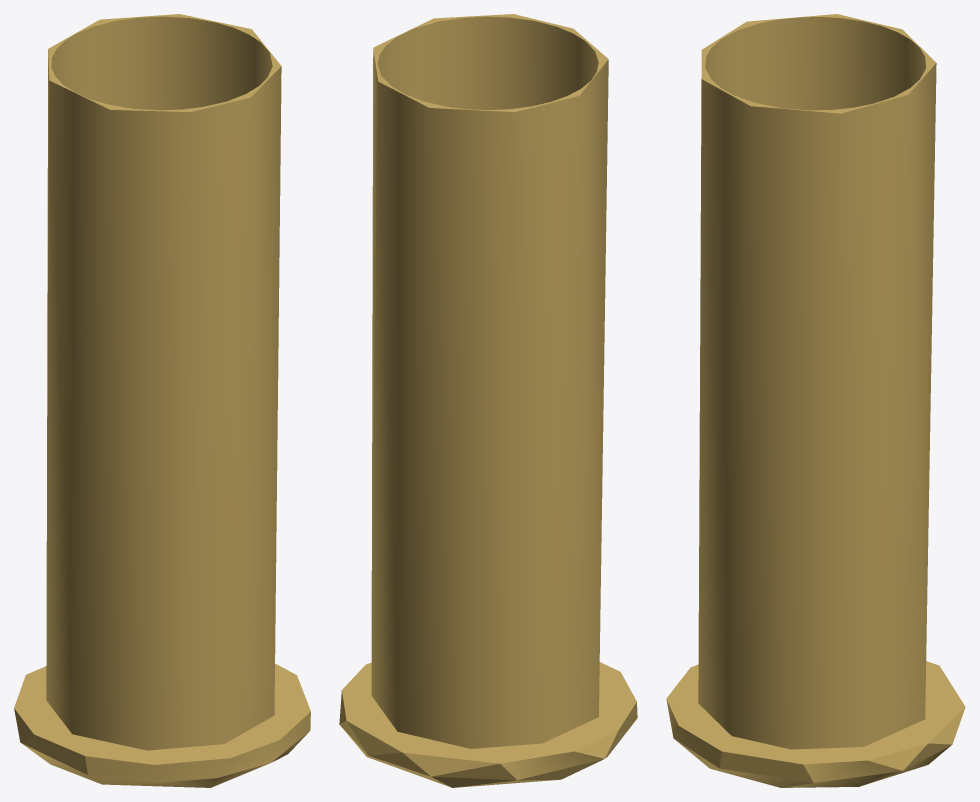
File: SM_Webley_Shell.fbx
The picture shows the model from 3 angles, left to right: view 1: azimuth 30°, elevation 25°; view 2: azimuth 150°, elevation 25°; view 3: azimuth 270°, elevation 25°; orthographic projection.
Parts seen in each view (by area): view 1: Bullet; view 2: Bullet; view 3: Bullet.
Part boxes in pixels (x1,y1,x2,y2): Bullet: (14, 14, 310, 787); Bullet: (339, 14, 637, 787); Bullet: (666, 14, 965, 787).
Size of the model in its own units: 1.3 by 3.21 by 1.3.
